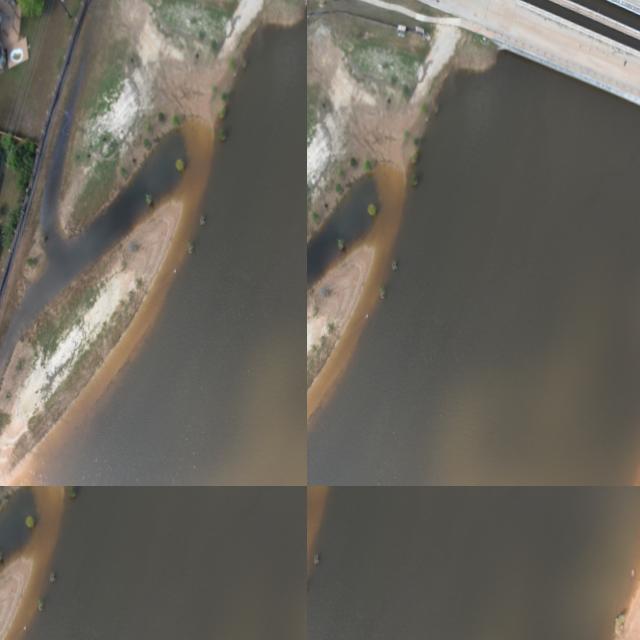fire: (307, 486, 640, 640)
